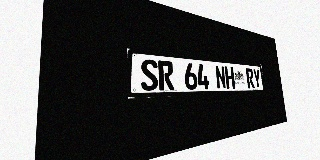4: (196, 64, 209, 90)
6: (184, 63, 198, 90)
H: (224, 66, 235, 89)
N: (215, 65, 226, 89)
R: (158, 60, 174, 90), (245, 68, 255, 88)
S: (140, 59, 159, 91)
Y: (253, 69, 261, 88)
